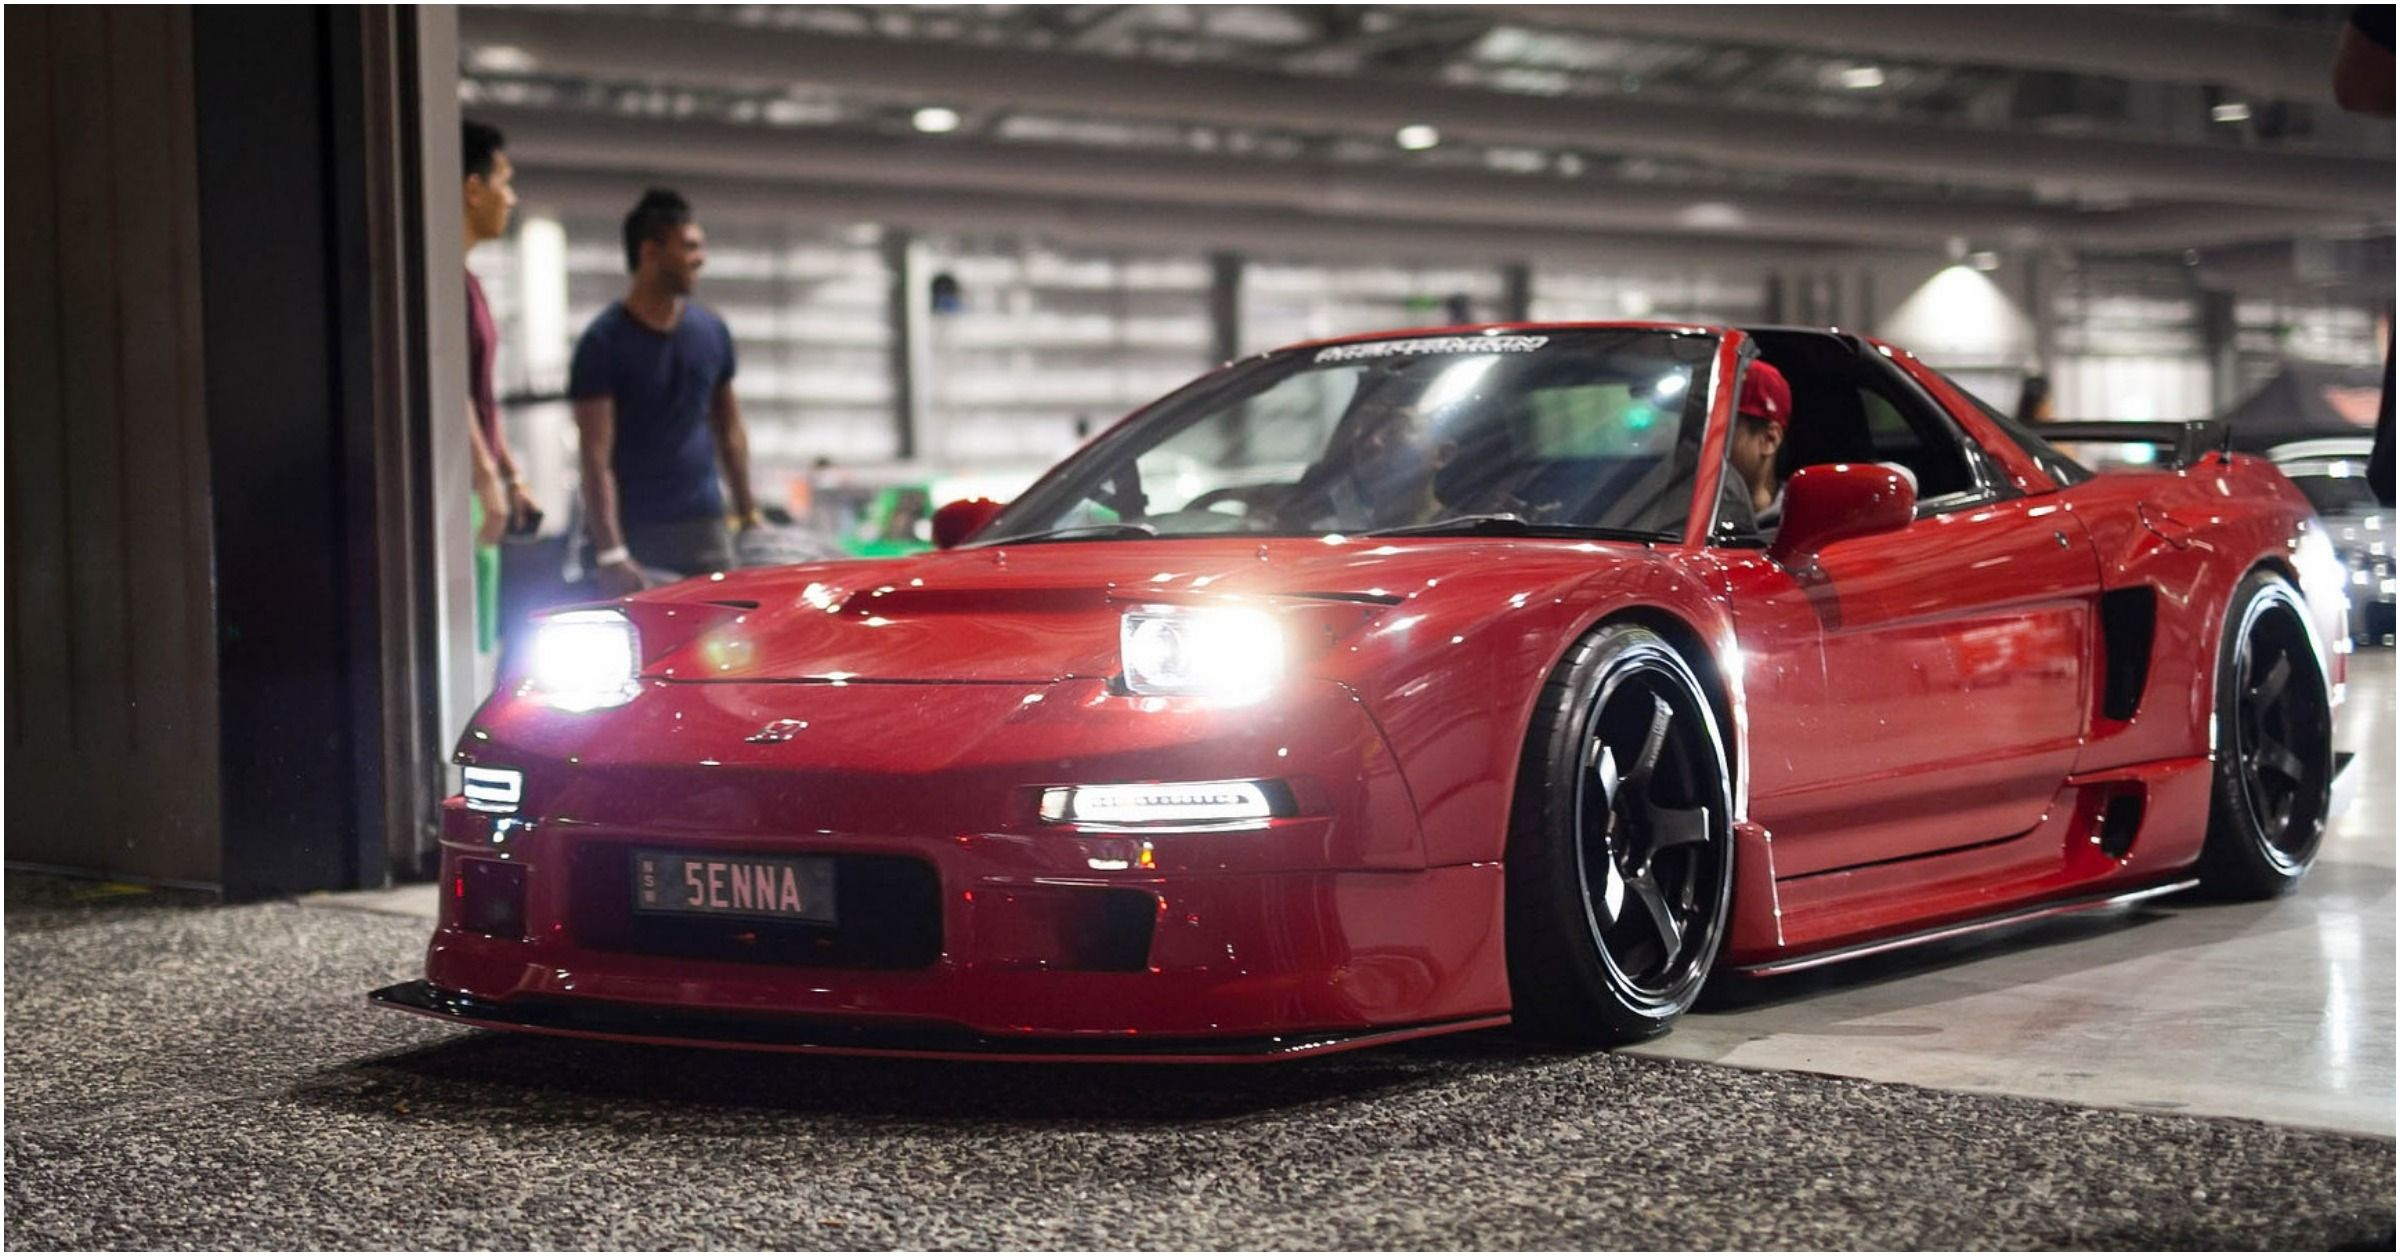headlight: (1105, 575, 1349, 700), (1021, 748, 1298, 837), (479, 599, 686, 713), (448, 751, 559, 802)
wheel: (1471, 619, 1746, 1038), (2178, 588, 2362, 891)
